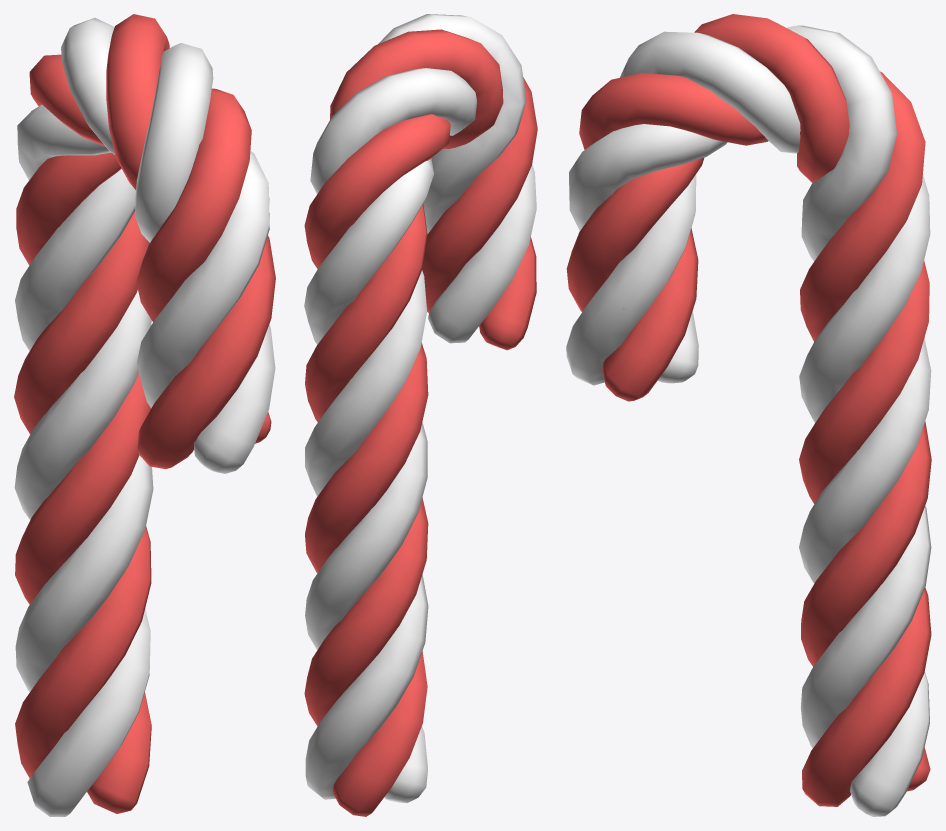
File: candy_cane.glb
3 views of the same model, side by side, from view 1: azimuth 30°, elevation 25°; view 2: azimuth 150°, elevation 25°; view 3: azimuth 270°, elevation 25° (orthographic). The views are drawn at different scales.
Parts seen in each view (by area): view 1: Candy_Cane_3D_Candy_Cane_Drink_3D_Illustration_Icon; view 2: Candy_Cane_3D_Candy_Cane_Drink_3D_Illustration_Icon; view 3: Candy_Cane_3D_Candy_Cane_Drink_3D_Illustration_Icon.
Part boxes in pixels (box(x1,y1,x2,y2)): Candy_Cane_3D_Candy_Cane_Drink_3D_Illustration_Icon: box(14, 14, 275, 816); Candy_Cane_3D_Candy_Cane_Drink_3D_Illustration_Icon: box(304, 14, 537, 816); Candy_Cane_3D_Candy_Cane_Drink_3D_Illustration_Icon: box(566, 14, 931, 816).
Bounding box in the file's own units: 3.85 × 24.88 × 10.58.
Materials: 1 (1 with a texture image).
